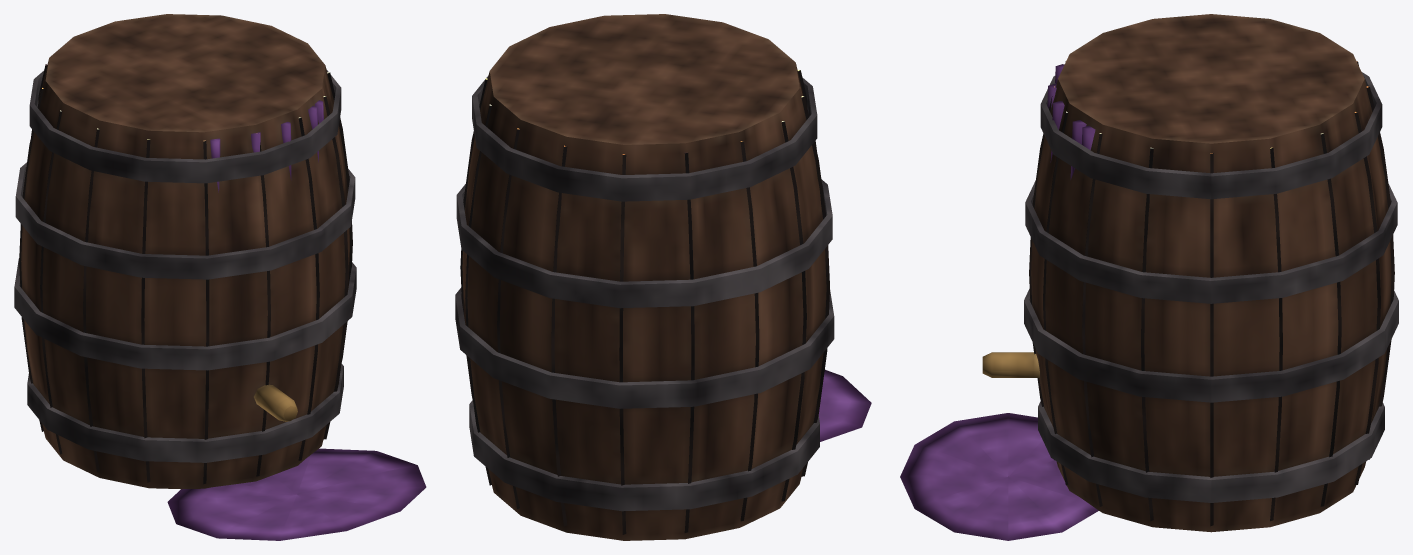
File: StiltVillage_Prop_A.fbx
The picture shows the model from 3 angles, left to right: view 1: azimuth 30°, elevation 25°; view 2: azimuth 150°, elevation 25°; view 3: azimuth 270°, elevation 25°; orthographic projection. The views are drawn at different scales.
Parts seen in each view (by area): view 1: StiltVillage_Prop_A; view 2: StiltVillage_Prop_A; view 3: StiltVillage_Prop_A.
Boxes of the visible parts, x1,y1,x2,y2 form: StiltVillage_Prop_A: (14, 14, 426, 540); StiltVillage_Prop_A: (455, 14, 871, 540); StiltVillage_Prop_A: (900, 14, 1398, 540).
Size of the model in its own units: 0.8312 by 0.95 by 1.11.
